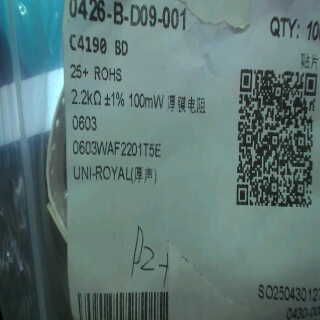2.2kR: (69, 85, 102, 110)
